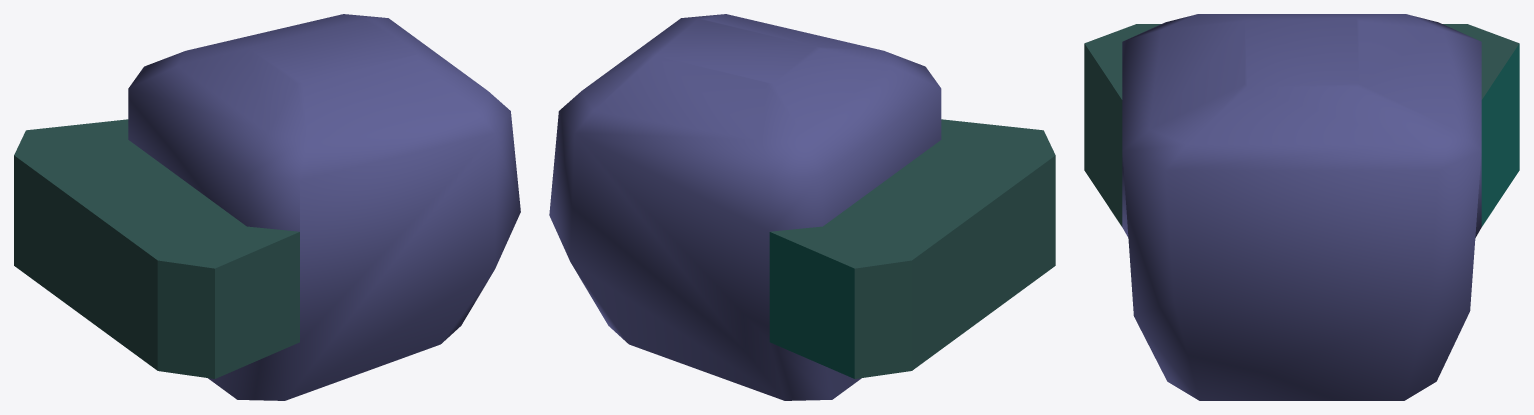
Rendered from VRHead.FBX.
3 views of the same model, side by side, from view 1: azimuth 30°, elevation 25°; view 2: azimuth 150°, elevation 25°; view 3: azimuth 270°, elevation 25° (orthographic). The views are drawn at different scales.
Parts seen in each view (by area): view 1: Object001; view 2: Object001; view 3: Object001.
Part boxes in pixels (box(x1,y1,x2,y2)): Object001: box(14, 14, 520, 400); Object001: box(549, 14, 1055, 400); Object001: box(1084, 14, 1519, 400).
Bounding box in the file's own units: 57.39 × 41.14 × 49.5.
